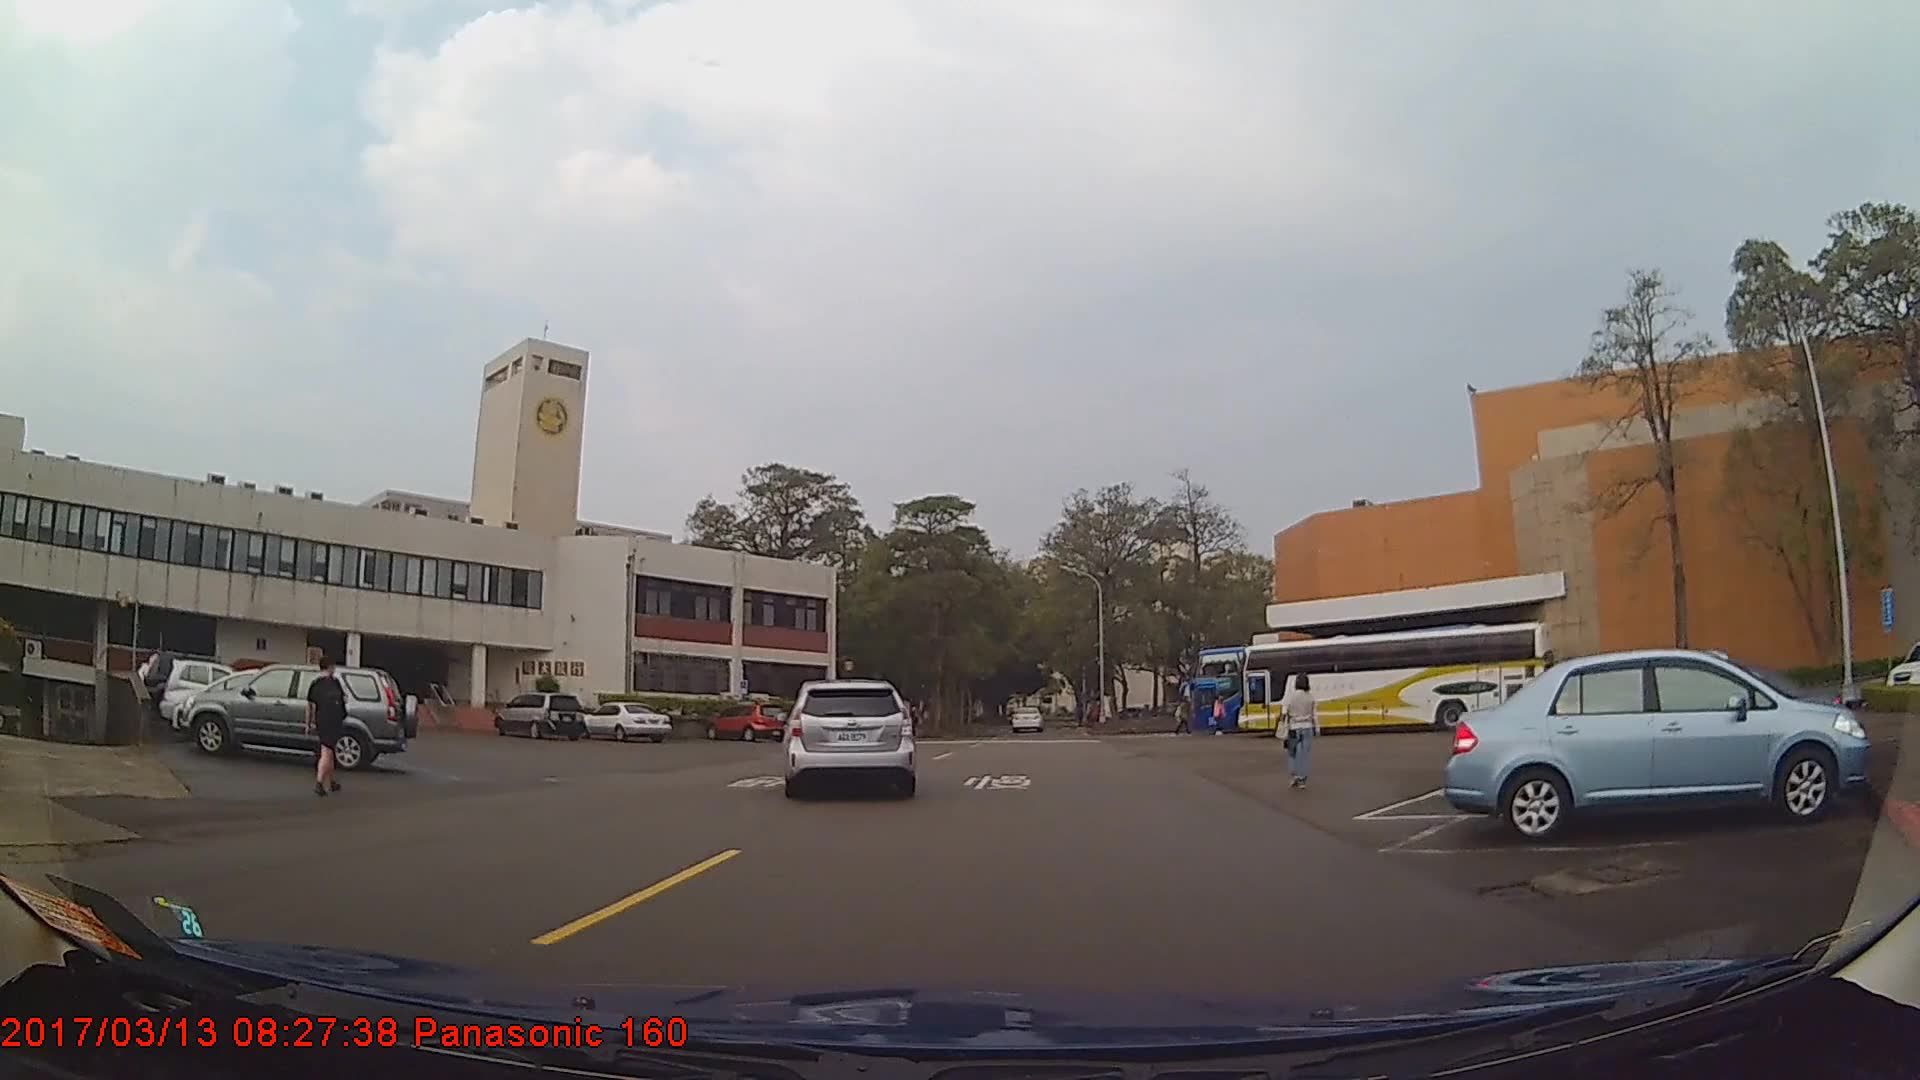pedestrian: (303, 649, 354, 793), (1280, 672, 1321, 789)
vehicle: (1448, 643, 1869, 844), (1238, 619, 1552, 740), (179, 662, 415, 770), (1189, 641, 1445, 733), (784, 679, 912, 797), (163, 656, 269, 720), (494, 691, 586, 741), (580, 698, 674, 741), (704, 699, 789, 739), (1008, 704, 1043, 731)
